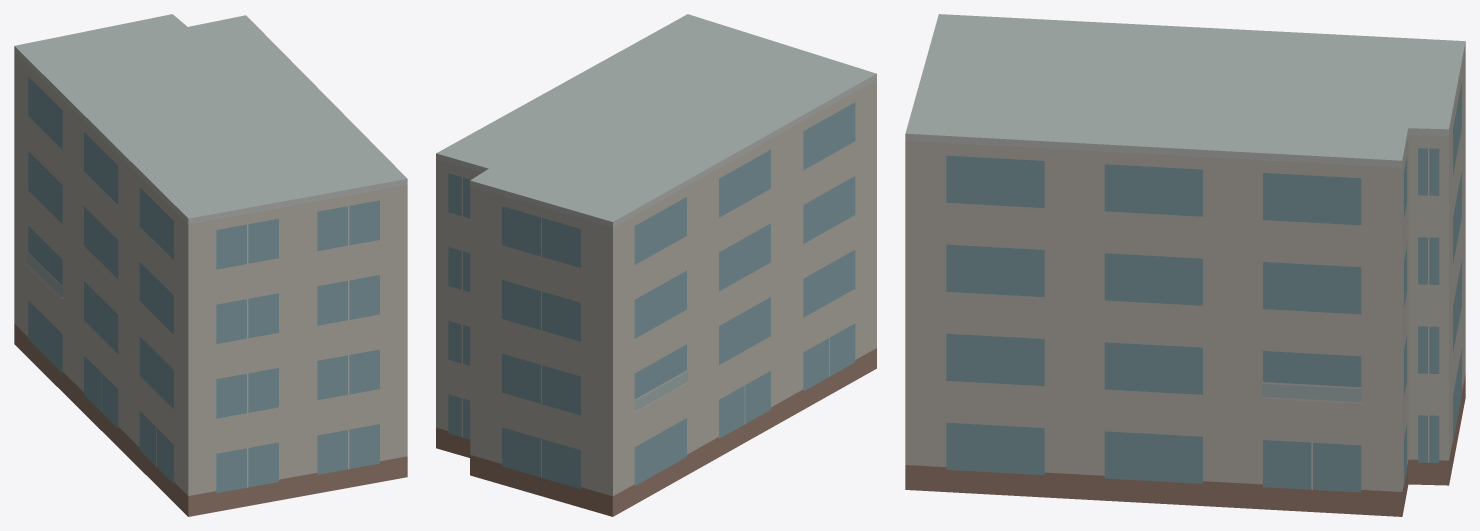
File: survey-upis-32679565.glb
3 renders of one model, left to right at view 1: azimuth 30°, elevation 25°; view 2: azimuth 150°, elevation 25°; view 3: azimuth 270°, elevation 25°, orthographic. The views are drawn at different scales.
Visible parts, largest first — view 1: survey-upis-32679565.tmp; view 2: survey-upis-32679565.tmp; view 3: survey-upis-32679565.tmp.
Part boxes in pixels (box(x1,y1,x2,y2)): survey-upis-32679565.tmp: box(14, 14, 407, 516); survey-upis-32679565.tmp: box(436, 14, 876, 516); survey-upis-32679565.tmp: box(905, 14, 1465, 516).
Bounding box in the file's own units: 10.96 × 12.4 × 17.69.
